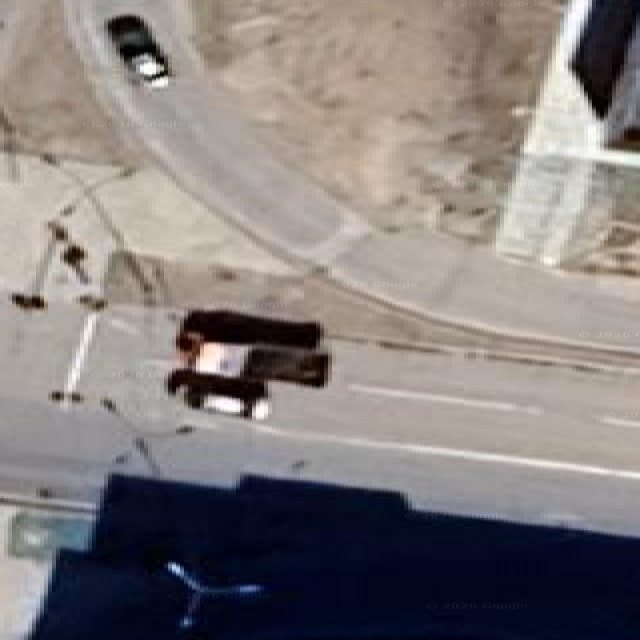car: (167, 308, 329, 419), (167, 368, 270, 419), (105, 15, 169, 85)
